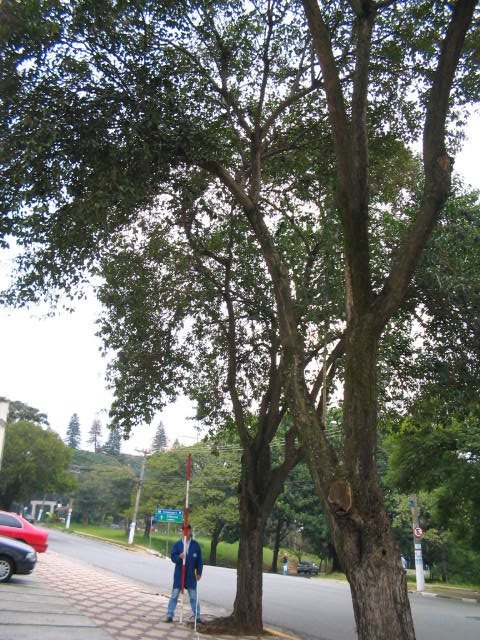stem: (308, 487, 436, 639), (218, 484, 284, 631)
stick: (171, 451, 196, 623)
